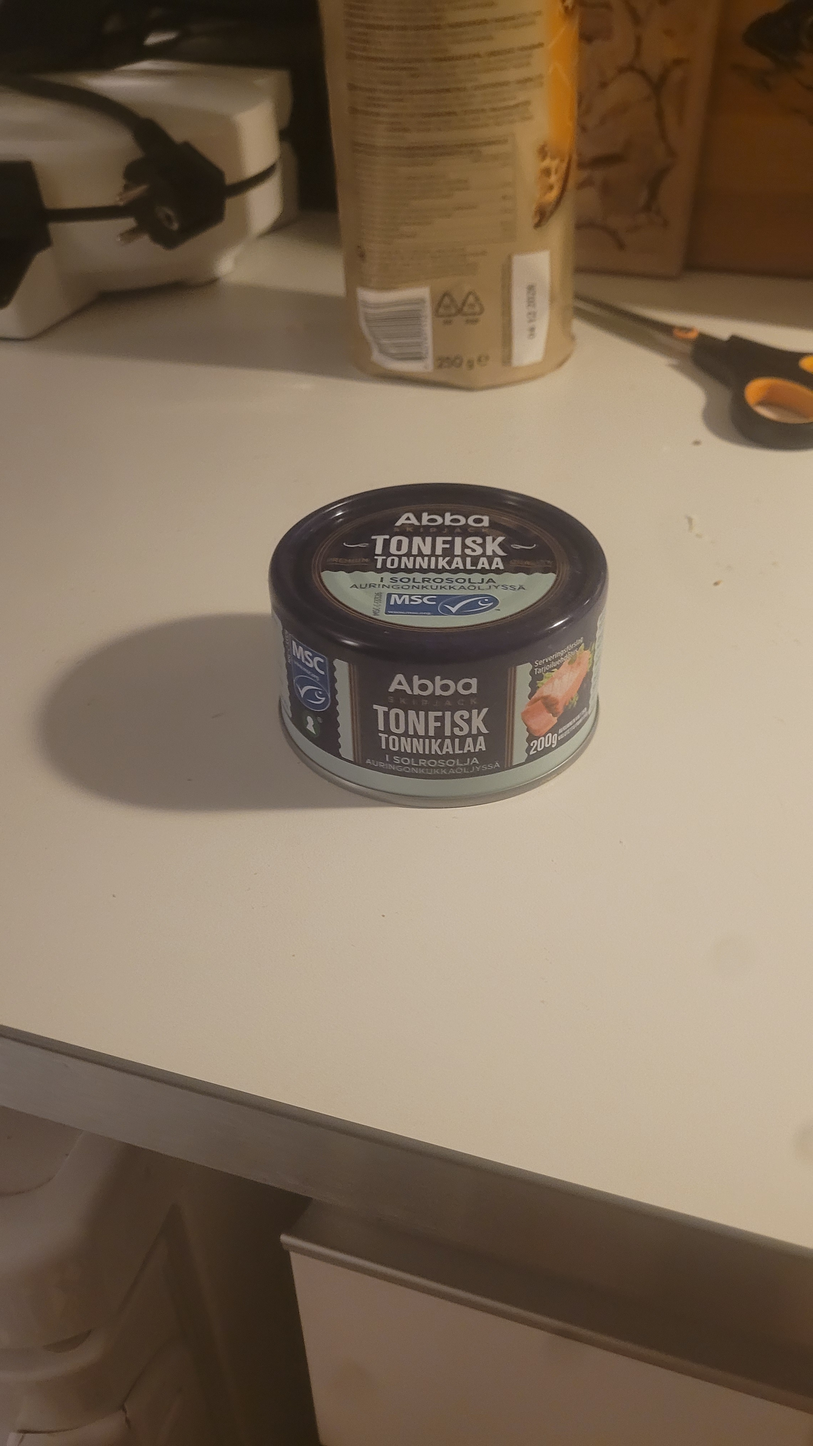Konservburk: (267, 482, 608, 809)
